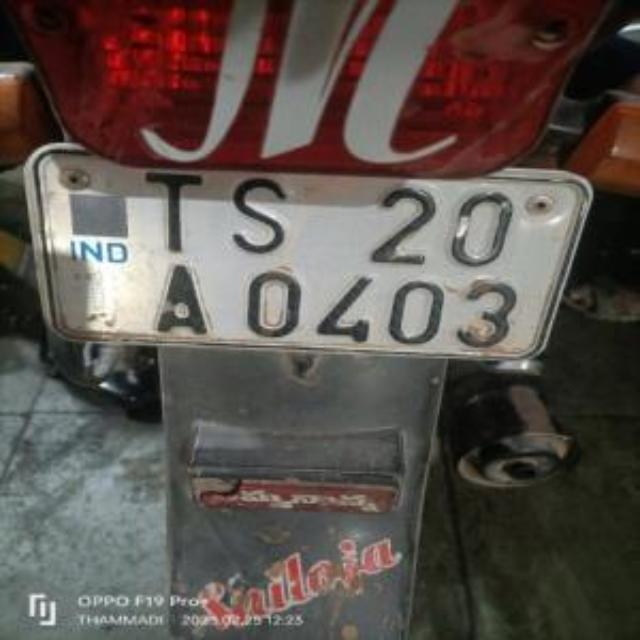License Plate: (53, 151, 593, 366)
